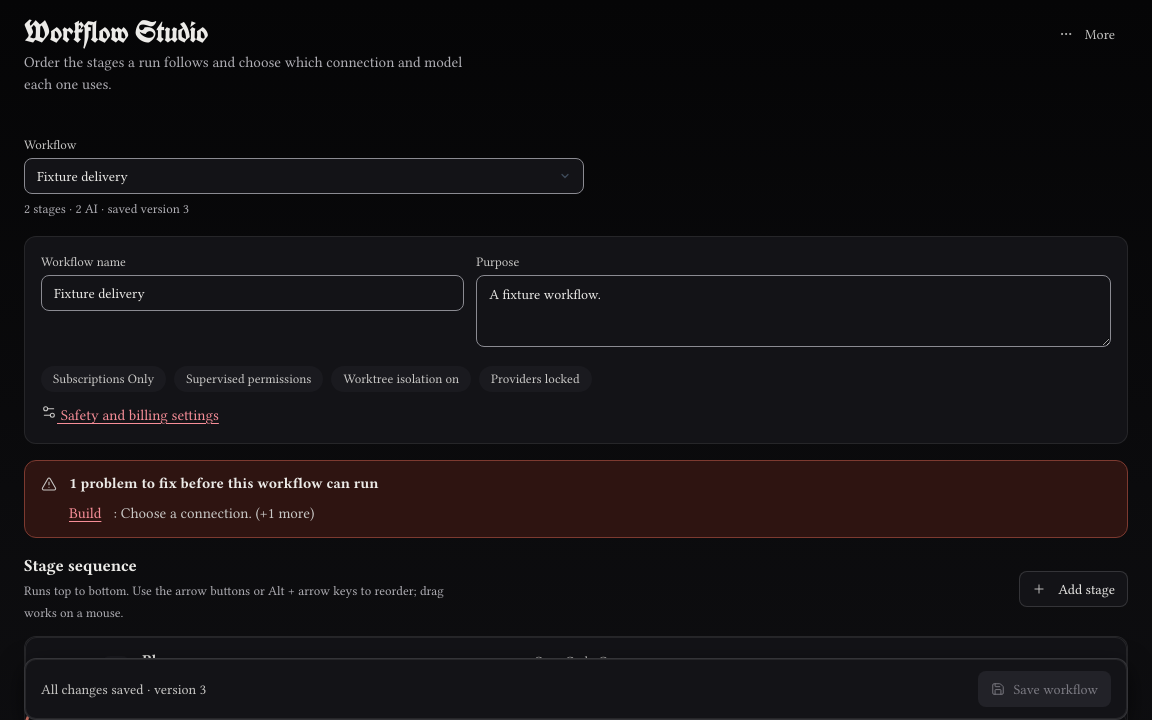
Scenario: unsaved changes and saving › starts clean with Save disabled, becomes dirty on edit, and offers Discard
Expected: the button "Save workflow" is disabled, [978, 671, 1111, 707]
Replace the text in the field labelled "Workflow name" with "Renamed" at (253, 293), box [41, 275, 464, 311]
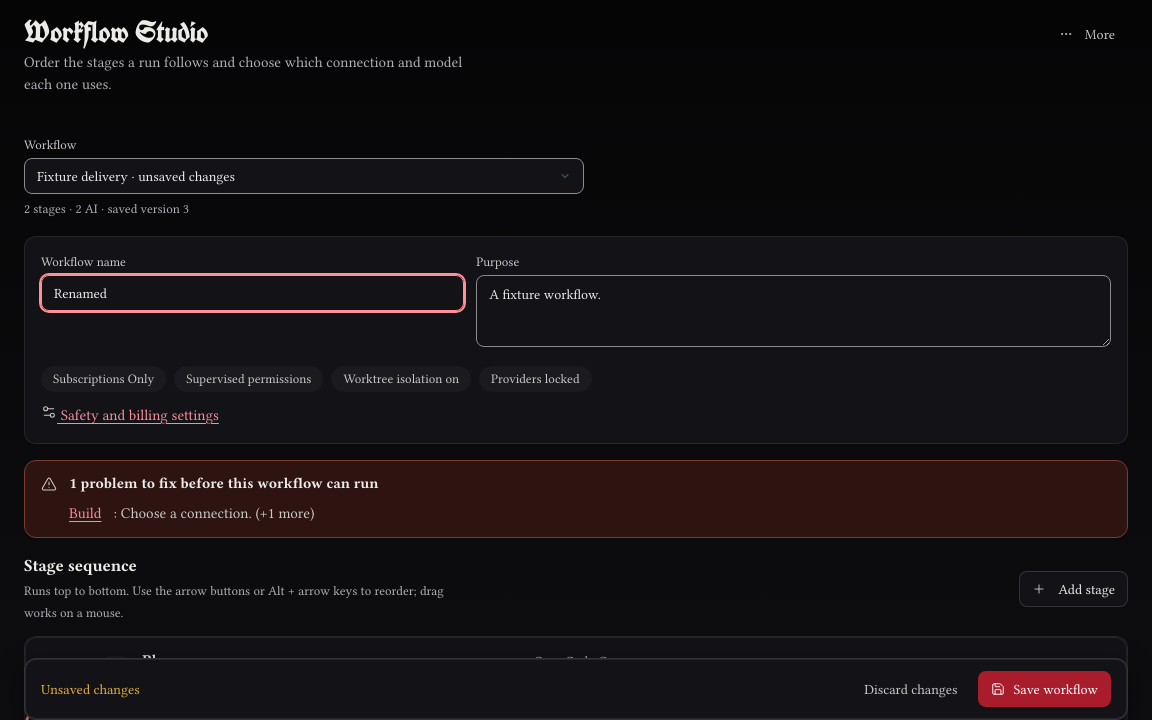
Now the button "Save workflow" is enabled, box [978, 671, 1111, 707]
Now the message "Unsaved changes" is shown, box [41, 678, 140, 700]
Click the button "Discard changes" at (911, 689), box [851, 671, 970, 707]
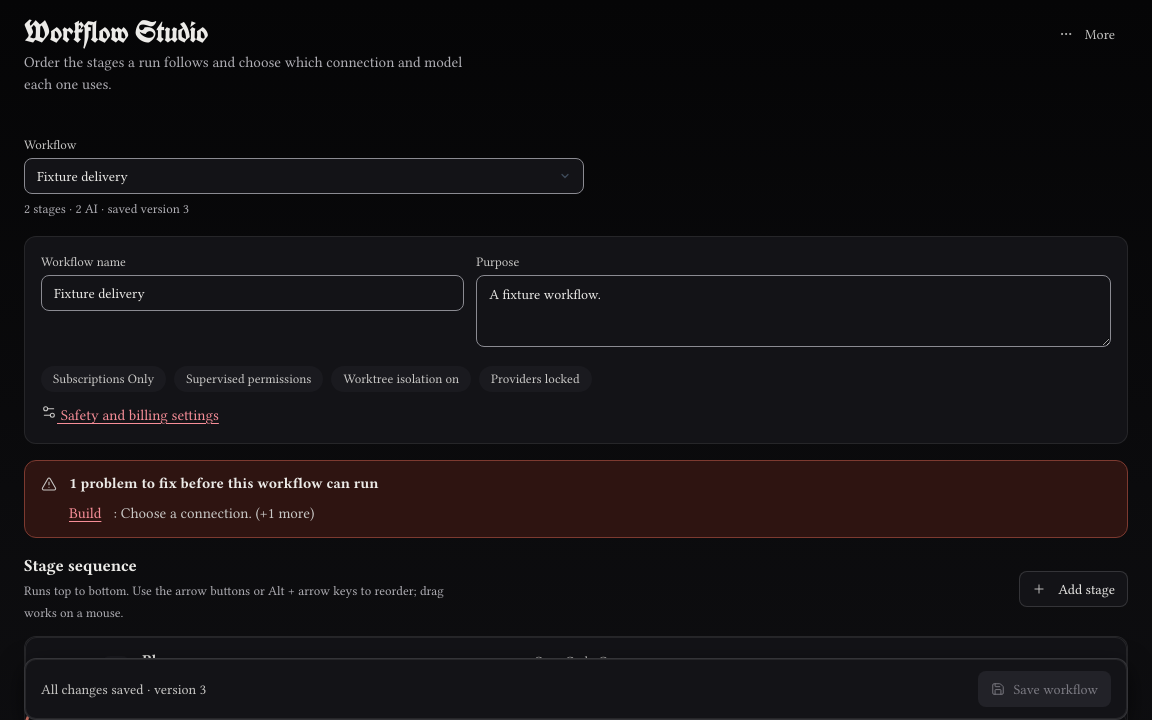
Now the field labelled "Workflow name" holds "Fixture delivery", box [41, 275, 464, 311]
